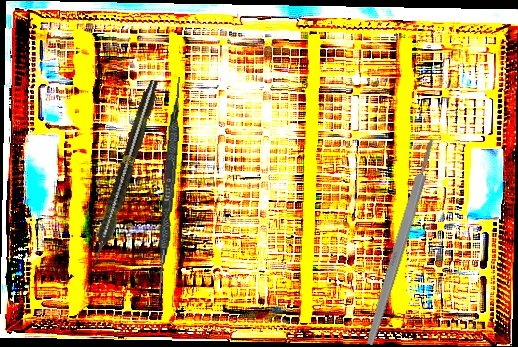Handpiece: (86, 78, 163, 266)
Scalpel Handle: (363, 137, 439, 347)
Spatula Surgical: (154, 76, 183, 305)
